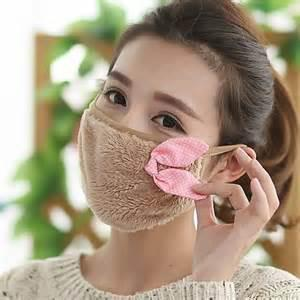OK: (79, 70, 214, 220)
